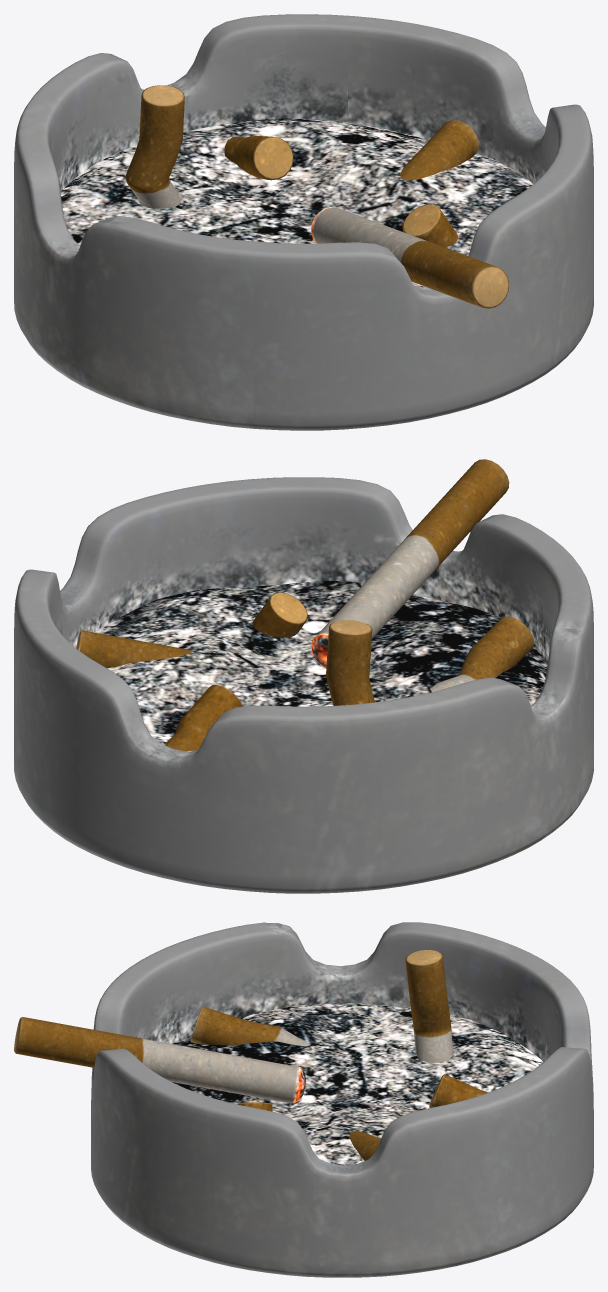
Rendered from ashtray.glb.
3 renders of one model, top to bottom at view 1: azimuth 30°, elevation 25°; view 2: azimuth 150°, elevation 25°; view 3: azimuth 270°, elevation 25°, orthographic. The views are drawn at different scales.
Parts seen in each view (by area): view 1: Object_2; view 2: Object_2; view 3: Object_2.
Part boxes in pixels (x1,y1,x2,y2): Object_2: (14, 14, 593, 430); Object_2: (14, 459, 593, 893); Object_2: (14, 922, 593, 1277).
Bounding box in the file's own units: 0.1267 × 0.0509 × 0.1461.
Materials: 1 (1 with a texture image).
